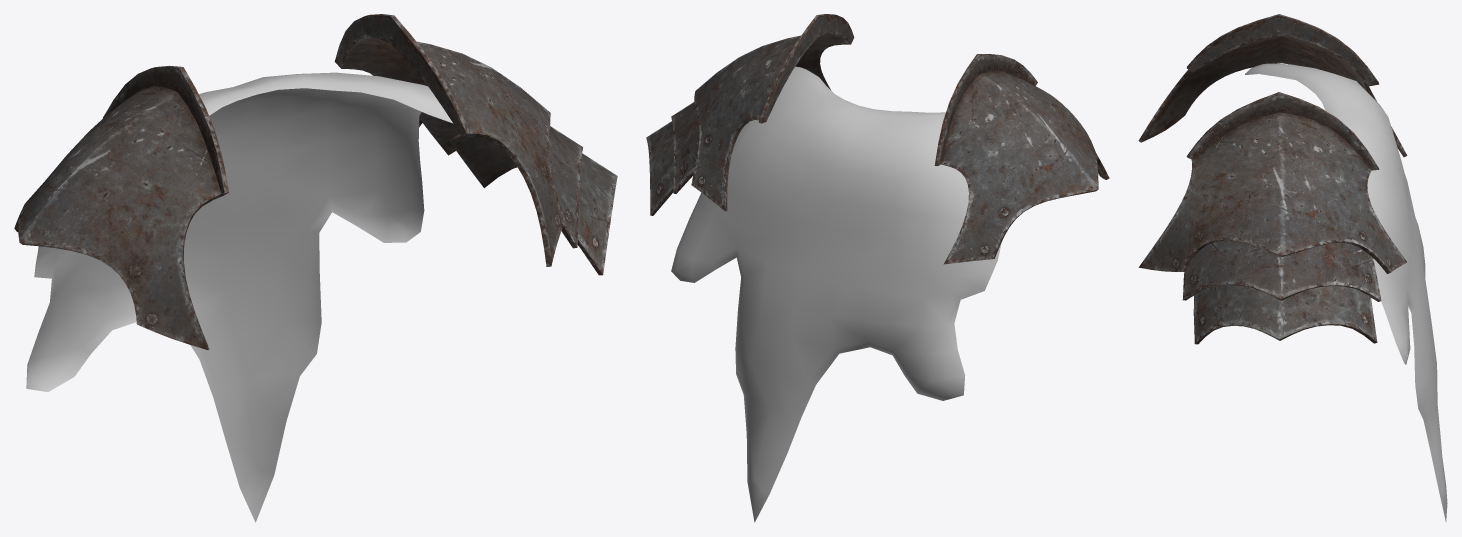
File: sk_gb_uruk_cape_pauldron_light_a.fbx
The picture shows the model from 3 angles, left to right: view 1: azimuth 30°, elevation 25°; view 2: azimuth 150°, elevation 25°; view 3: azimuth 270°, elevation 25°; orthographic projection. The views are drawn at different scales.
Visible parts, largest first — view 1: sk_gb_uruk_cape_pauldron_light_a.cape, sk_gb_uruk_cape_pauldron_light_a.pauld; view 2: sk_gb_uruk_cape_pauldron_light_a.cape, sk_gb_uruk_cape_pauldron_light_a.pauld; view 3: sk_gb_uruk_cape_pauldron_light_a.pauld, sk_gb_uruk_cape_pauldron_light_a.cape.
Part boxes in pixels (x1,y1,x2,y2): sk_gb_uruk_cape_pauldron_light_a.cape: [26, 72, 453, 522]; sk_gb_uruk_cape_pauldron_light_a.pauld: [14, 14, 617, 349]; sk_gb_uruk_cape_pauldron_light_a.cape: [671, 66, 1001, 522]; sk_gb_uruk_cape_pauldron_light_a.pauld: [646, 14, 1109, 264]; sk_gb_uruk_cape_pauldron_light_a.pauld: [1138, 14, 1407, 344]; sk_gb_uruk_cape_pauldron_light_a.cape: [1245, 63, 1447, 521].
Bounding box in the file's own units: 0.698 × 0.4133 × 0.6494.
